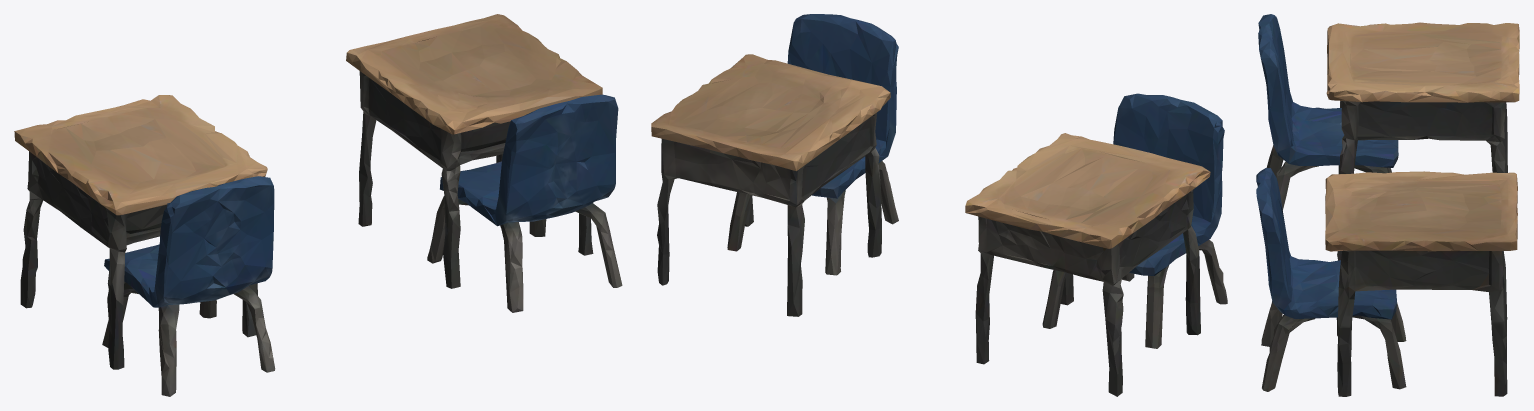
The model's file is classroom-desks.glb.
3 views of the same model, side by side, from view 1: azimuth 30°, elevation 25°; view 2: azimuth 150°, elevation 25°; view 3: azimuth 270°, elevation 25° (orthographic). The views are drawn at different scales.
Parts seen in each view (by area): view 1: classroom-desks; view 2: classroom-desks; view 3: classroom-desks.
Boxes of the visible parts, x1,y1,x2,y2 form: classroom-desks: (14, 14, 622, 396); classroom-desks: (651, 14, 1227, 396); classroom-desks: (1256, 14, 1519, 396).
Size of the model in its own units: 0.981 by 0.3814 by 0.4974.
Materials: 1 (1 with a texture image).
